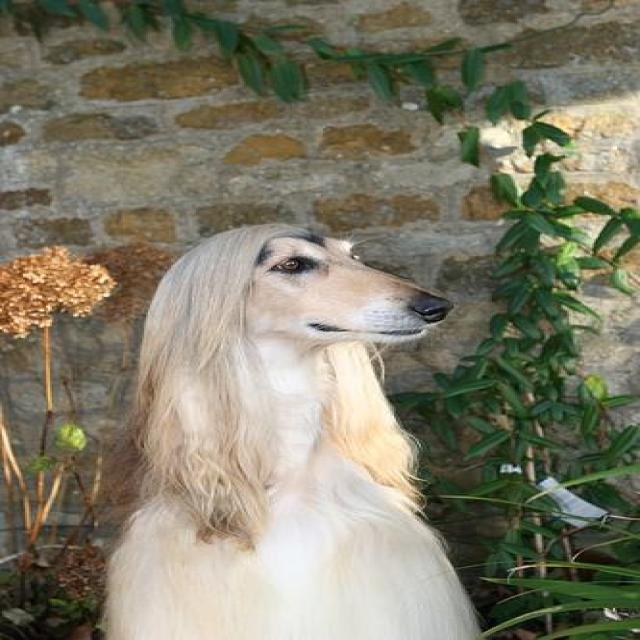afghan_hound: (98, 220, 482, 638)
